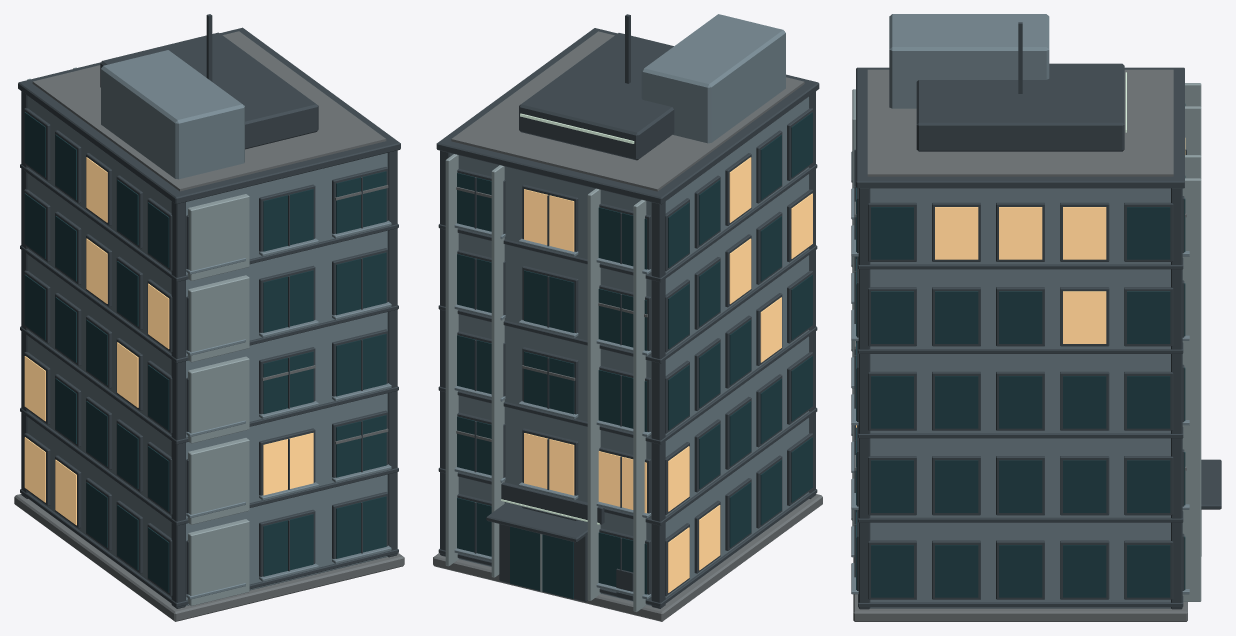
The model's file is relay_building.glb.
3 views of the same model, side by side, from view 1: azimuth 30°, elevation 25°; view 2: azimuth 150°, elevation 25°; view 3: azimuth 270°, elevation 25° (orthographic). The views are drawn at different scales.
Parts seen in each view (by area): view 1: Batch_Charcoal_Trim, Batch_Blue_Glazing, Structural_Shell, Batch_Painted_Accent, Batch_Warm_Mineral_Facade, Batch_Foundation, Batch_Warm_Window_Light, Roof_Parapet, Foundation; view 2: Batch_Charcoal_Trim, Batch_Blue_Glazing, Structural_Shell, Batch_Painted_Accent, Batch_Warm_Mineral_Facade, Batch_Warm_Window_Light, Batch_Foundation, Roof_Parapet, Foundation, Entrance_Canopy, Batch_Cyan_Wayfinding; view 3: Batch_Charcoal_Trim, Structural_Shell, Batch_Blue_Glazing, Batch_Foundation, Batch_Warm_Mineral_Facade, Batch_Painted_Accent, Batch_Warm_Window_Light, Roof_Parapet, Foundation, Entrance_Canopy.
Part boxes in pixels (x1,y1,x2,y2): Batch_Charcoal_Trim: (20, 14, 398, 608); Batch_Blue_Glazing: (24, 112, 386, 592); Structural_Shell: (28, 96, 387, 605); Batch_Painted_Accent: (27, 67, 249, 605); Batch_Warm_Mineral_Facade: (101, 50, 391, 599); Batch_Foundation: (32, 31, 388, 444); Batch_Warm_Window_Light: (24, 157, 313, 525); Roof_Parapet: (18, 27, 400, 204); Foundation: (14, 494, 404, 621); Batch_Charcoal_Trim: (438, 14, 817, 608); Batch_Blue_Glazing: (457, 112, 812, 598); Structural_Shell: (450, 96, 809, 605); Batch_Painted_Accent: (445, 154, 646, 612); Batch_Warm_Mineral_Facade: (454, 14, 785, 599); Batch_Warm_Window_Light: (524, 157, 812, 592); Batch_Foundation: (451, 31, 804, 441); Roof_Parapet: (436, 28, 819, 204); Foundation: (433, 494, 822, 621); Entrance_Canopy: (486, 502, 587, 542); Batch_Cyan_Wayfinding: (501, 113, 634, 524); Batch_Charcoal_Trim: (854, 22, 1186, 609); Structural_Shell: (870, 188, 1170, 608); Batch_Blue_Glazing: (856, 104, 1185, 597); Batch_Foundation: (854, 69, 1186, 470); Batch_Warm_Mineral_Facade: (851, 14, 1189, 594); Batch_Painted_Accent: (852, 83, 1201, 601); Batch_Warm_Window_Light: (856, 138, 1185, 427); Roof_Parapet: (856, 67, 1184, 188); Foundation: (853, 557, 1187, 621); Entrance_Canopy: (1201, 459, 1221, 509).
Size of what is drawn, in the model's own units: 9.5 by 20.5 by 12.71.
